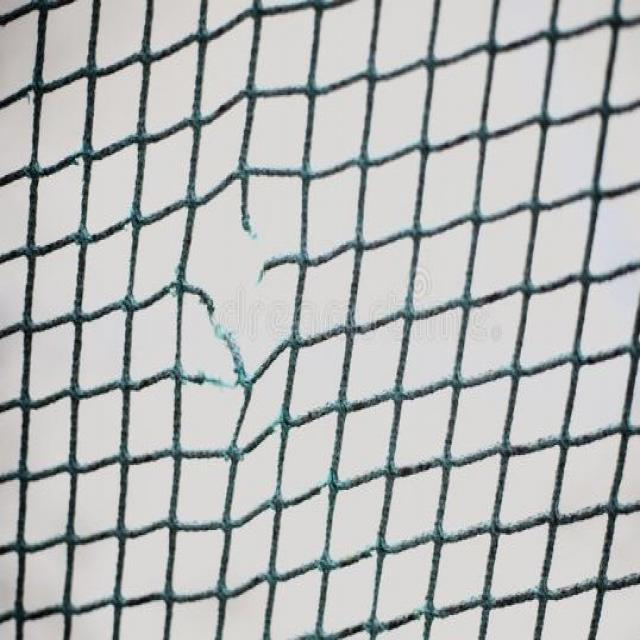fence line: (172, 154, 321, 424)
